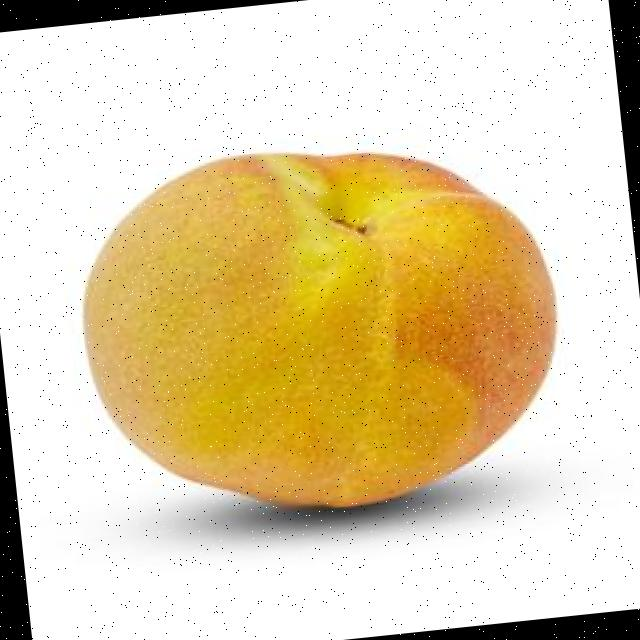peach: (87, 154, 555, 505)
